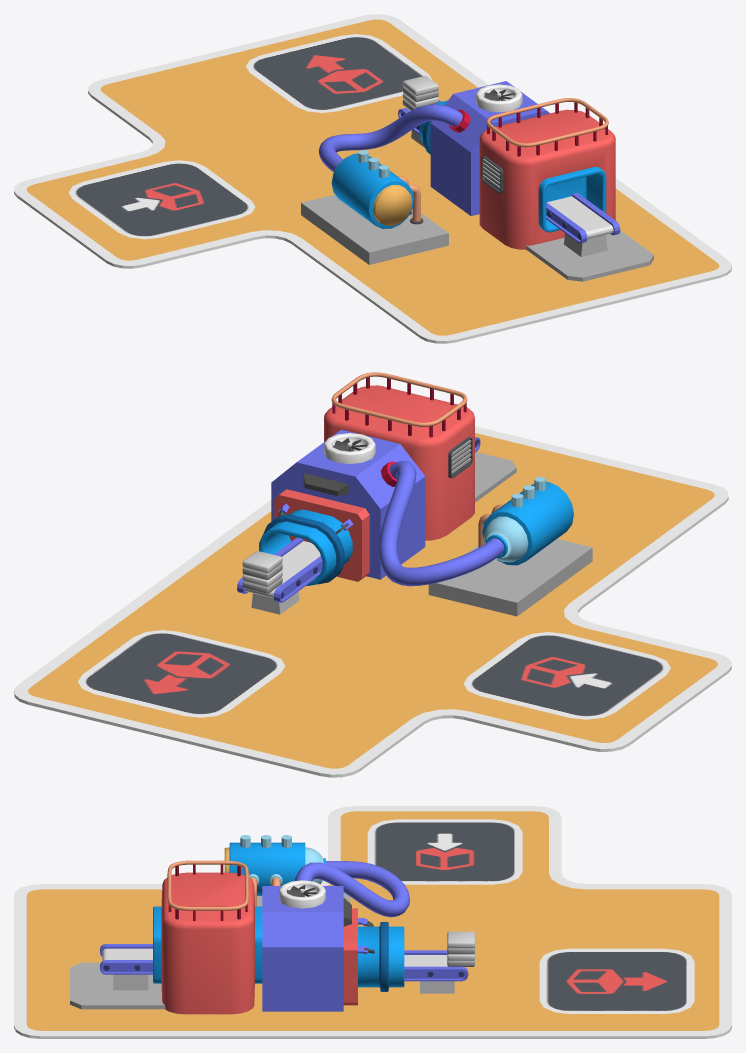
File: Almunium Machine.fbx
3 views of the same model, one above another, from view 1: azimuth 30°, elevation 25°; view 2: azimuth 150°, elevation 25°; view 3: azimuth 270°, elevation 25° (orthographic). The views are drawn at different scales.
Parts seen in each view (by area): view 1: Cube.016, Cube.178, Pick Up Box.002, Pick Up Box.001, Cube.035, Cube.200, Cylinder.051, Cube.182, BezierCurve, Cube.184, Cube.185, Cube.180 (+6 smaller); view 2: Cube.016, Pick Up Box.002, Pick Up Box.001, Cube.178, Cube.035, Cube.200, Cylinder.051, BezierCurve, Cylinder.050, Cube.196, Cube.180, Cube.134 (+7 smaller); view 3: Cube.016, Cube.178, Pick Up Box.001, Pick Up Box.002, Cube.035, BezierCurve, Cube.182, Cylinder.051, Cylinder.050, Cube.196, Cube.204, Cylinder.044 (+9 smaller).
Part boxes in pixels (x1=…): Cube.016: x1=14, y1=14, x2=731, y2=343; Cube.178: x1=479, y1=109, x2=615, y2=249; Pick Up Box.002: x1=68, y1=160, x2=255, y2=239; Pick Up Box.001: x1=246, y1=34, x2=432, y2=112; Cube.035: x1=430, y1=81, x2=549, y2=215; Cube.200: x1=301, y1=194, x2=448, y2=264; Cylinder.051: x1=331, y1=153, x2=414, y2=228; Cube.182: x1=526, y1=230, x2=653, y2=281; BezierCurve: x1=318, y1=104, x2=462, y2=172; Cube.184: x1=538, y1=167, x2=606, y2=232; Cube.185: x1=547, y1=196, x2=613, y2=239; Cube.180: x1=486, y1=98, x2=608, y2=147; Cube.016: x1=14, y1=426, x2=731, y2=777; Pick Up Box.002: x1=463, y1=632, x2=670, y2=719; Pick Up Box.001: x1=78, y1=630, x2=285, y2=717; Cube.178: x1=324, y1=385, x2=474, y2=540; Cube.035: x1=271, y1=429, x2=425, y2=579; Cube.200: x1=428, y1=539, x2=592, y2=616; Cylinder.051: x1=482, y1=482, x2=573, y2=565; BezierCurve: x1=379, y1=460, x2=504, y2=586; Cylinder.050: x1=259, y1=509, x2=352, y2=585; Cube.196: x1=274, y1=489, x2=369, y2=581; Cube.180: x1=331, y1=372, x2=467, y2=426; Cube.134: x1=242, y1=551, x2=282, y2=593; Cube.016: x1=14, y1=806, x2=731, y2=1038; Cube.178: x1=161, y1=872, x2=254, y2=1014; Pick Up Box.001: x1=539, y1=948, x2=694, y2=1013; Pick Up Box.002: x1=367, y1=819, x2=522, y2=884; Cube.035: x1=262, y1=886, x2=343, y2=1011; BezierCurve: x1=295, y1=861, x2=409, y2=917; Cube.182: x1=70, y1=962, x2=165, y2=1009; Cylinder.051: x1=224, y1=842, x2=325, y2=895; Cylinder.050: x1=358, y1=922, x2=404, y2=991; Cube.196: x1=343, y1=908, x2=357, y2=1005; Cube.204: x1=404, y1=950, x2=468, y2=981; Cylinder.044: x1=279, y1=880, x2=325, y2=908.
Size of the model in its own units: 1582 by 347 by 2085.
